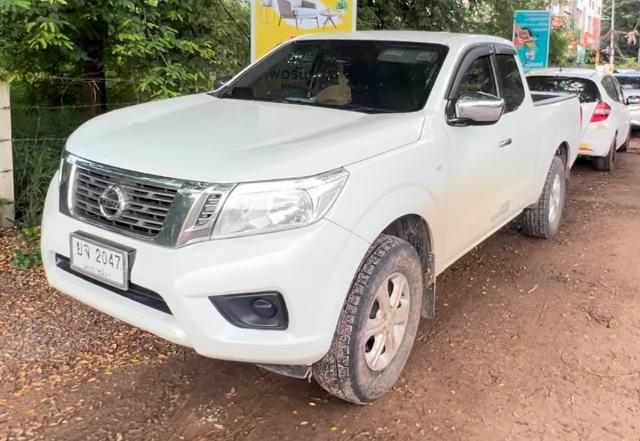pickup-truck: (37, 26, 581, 408)
